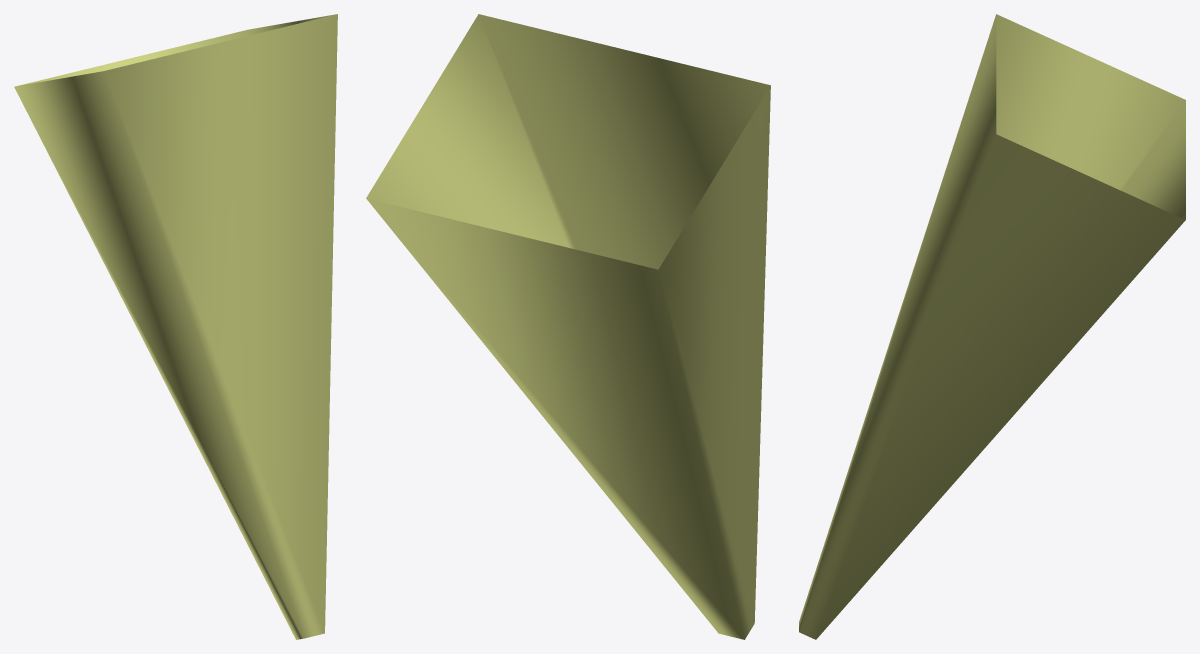
Rendered from LightMesh_Backlight.fbx.
The picture shows the model from 3 angles, left to right: view 1: azimuth 30°, elevation 25°; view 2: azimuth 150°, elevation 25°; view 3: azimuth 270°, elevation 25°; orthographic projection. The views are drawn at different scales.
Parts seen in each view (by area): view 1: LightMesh_Backlight; view 2: LightMesh_Backlight; view 3: LightMesh_Backlight.
Part boxes in pixels (left/top/right/bottom): LightMesh_Backlight: left=14, top=14, right=337, bottom=639; LightMesh_Backlight: left=366, top=14, right=770, bottom=639; LightMesh_Backlight: left=799, top=14, right=1185, bottom=639.
Bounding box in the file's own units: 505 × 1098 × 686.
